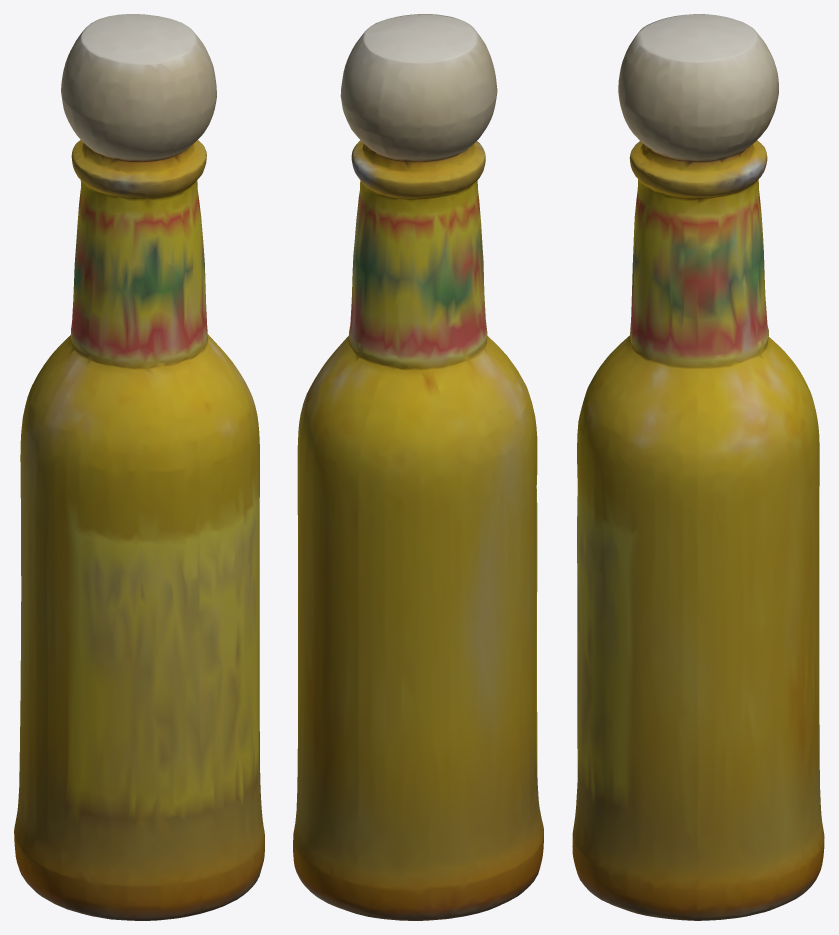
Rendered from bottle.glb.
3 views of the same model, side by side, from view 1: azimuth 30°, elevation 25°; view 2: azimuth 150°, elevation 25°; view 3: azimuth 270°, elevation 25° (orthographic).
Visible parts, largest first — view 1: hot sauce bottle; view 2: hot sauce bottle; view 3: hot sauce bottle.
Part boxes in pixels (x1,y1,x2,y2): hot sauce bottle: (14, 14, 264, 920); hot sauce bottle: (293, 14, 543, 920); hot sauce bottle: (572, 14, 824, 920).
Bounding box in the file's own units: 0.2698 × 0.9989 × 0.2716.
